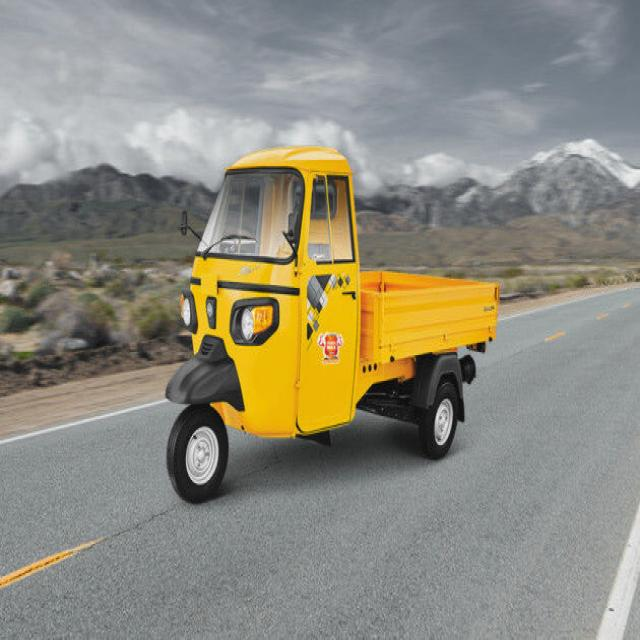autorickshaw: (166, 148, 499, 502)
